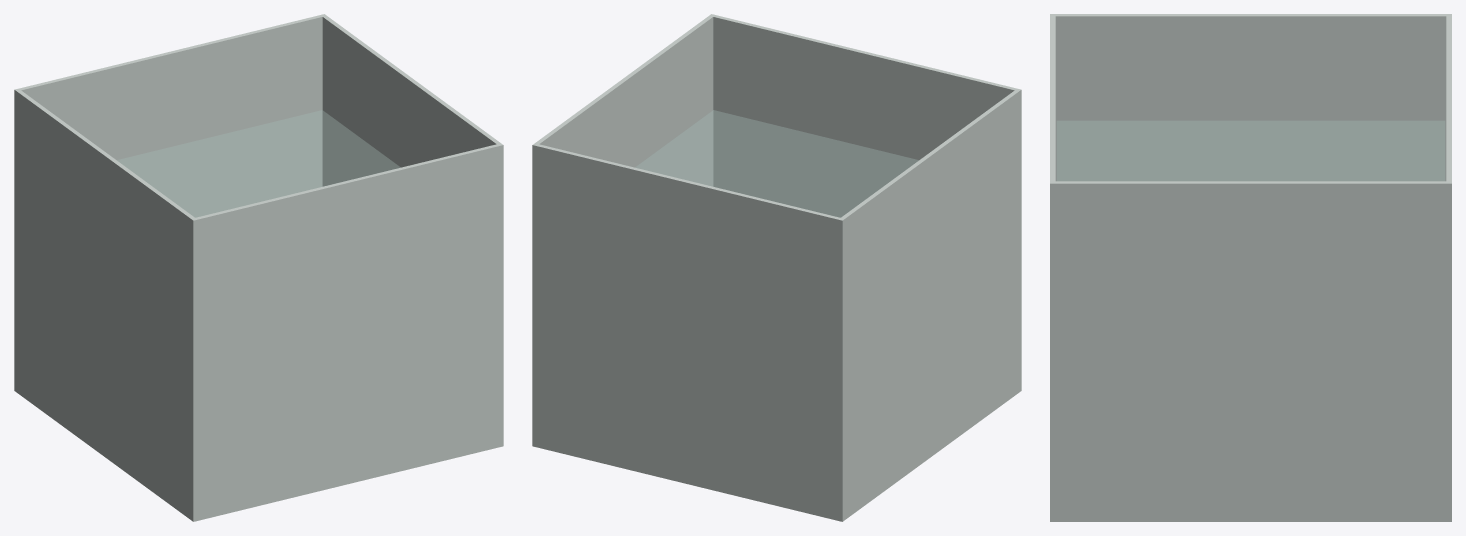
The model's file is aquarium-square.glb.
3 renders of one model, left to right at view 1: azimuth 30°, elevation 25°; view 2: azimuth 150°, elevation 25°; view 3: azimuth 270°, elevation 25°, orthographic. The views are drawn at different scales.
Parts seen in each view (by area): view 1: aquarium-square/frontback-glass--1, aquarium-square/end-glass--1, aquarium-square/frontback-glass-1, aquarium-square/water-volume, aquarium-square/end-glass-1, aquarium-square/real-glass-bottom; view 2: aquarium-square/frontback-glass-1, aquarium-square/end-glass--1, aquarium-square/frontback-glass--1, aquarium-square/water-volume, aquarium-square/end-glass-1, aquarium-square/real-glass-bottom; view 3: aquarium-square/end-glass-1, aquarium-square/end-glass--1, aquarium-square/water-volume, aquarium-square/frontback-glass--1, aquarium-square/frontback-glass-1, aquarium-square/real-glass-bottom.
Part boxes in pixels (x1,y1,x2,y2): aquarium-square/frontback-glass--1: (191, 143, 503, 521); aquarium-square/end-glass--1: (17, 90, 194, 518); aquarium-square/frontback-glass-1: (14, 14, 326, 392); aquarium-square/water-volume: (117, 110, 400, 217); aquarium-square/end-glass-1: (322, 16, 500, 186); aquarium-square/real-glass-bottom: (14, 385, 503, 521); aquarium-square/frontback-glass-1: (532, 143, 844, 520); aquarium-square/end-glass--1: (841, 90, 1018, 513); aquarium-square/frontback-glass--1: (709, 14, 1021, 386); aquarium-square/water-volume: (635, 110, 918, 217); aquarium-square/end-glass-1: (535, 16, 713, 186); aquarium-square/real-glass-bottom: (532, 385, 1021, 521); aquarium-square/end-glass-1: (1055, 181, 1446, 521); aquarium-square/end-glass--1: (1055, 14, 1446, 181); aquarium-square/water-volume: (1056, 120, 1445, 181); aquarium-square/frontback-glass--1: (1050, 14, 1055, 521); aquarium-square/frontback-glass-1: (1446, 14, 1451, 521); aquarium-square/real-glass-bottom: (1050, 515, 1451, 521).
Bounding box in the file's own units: 0.4375 × 0.4062 × 0.4375.
